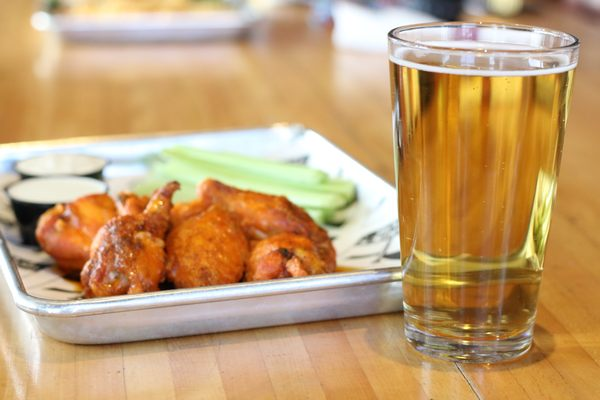sushi: (0, 161, 420, 345)
